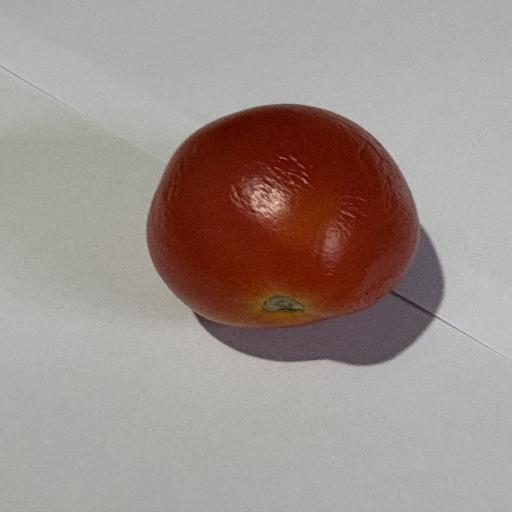spoiled: (147, 104, 419, 327)
